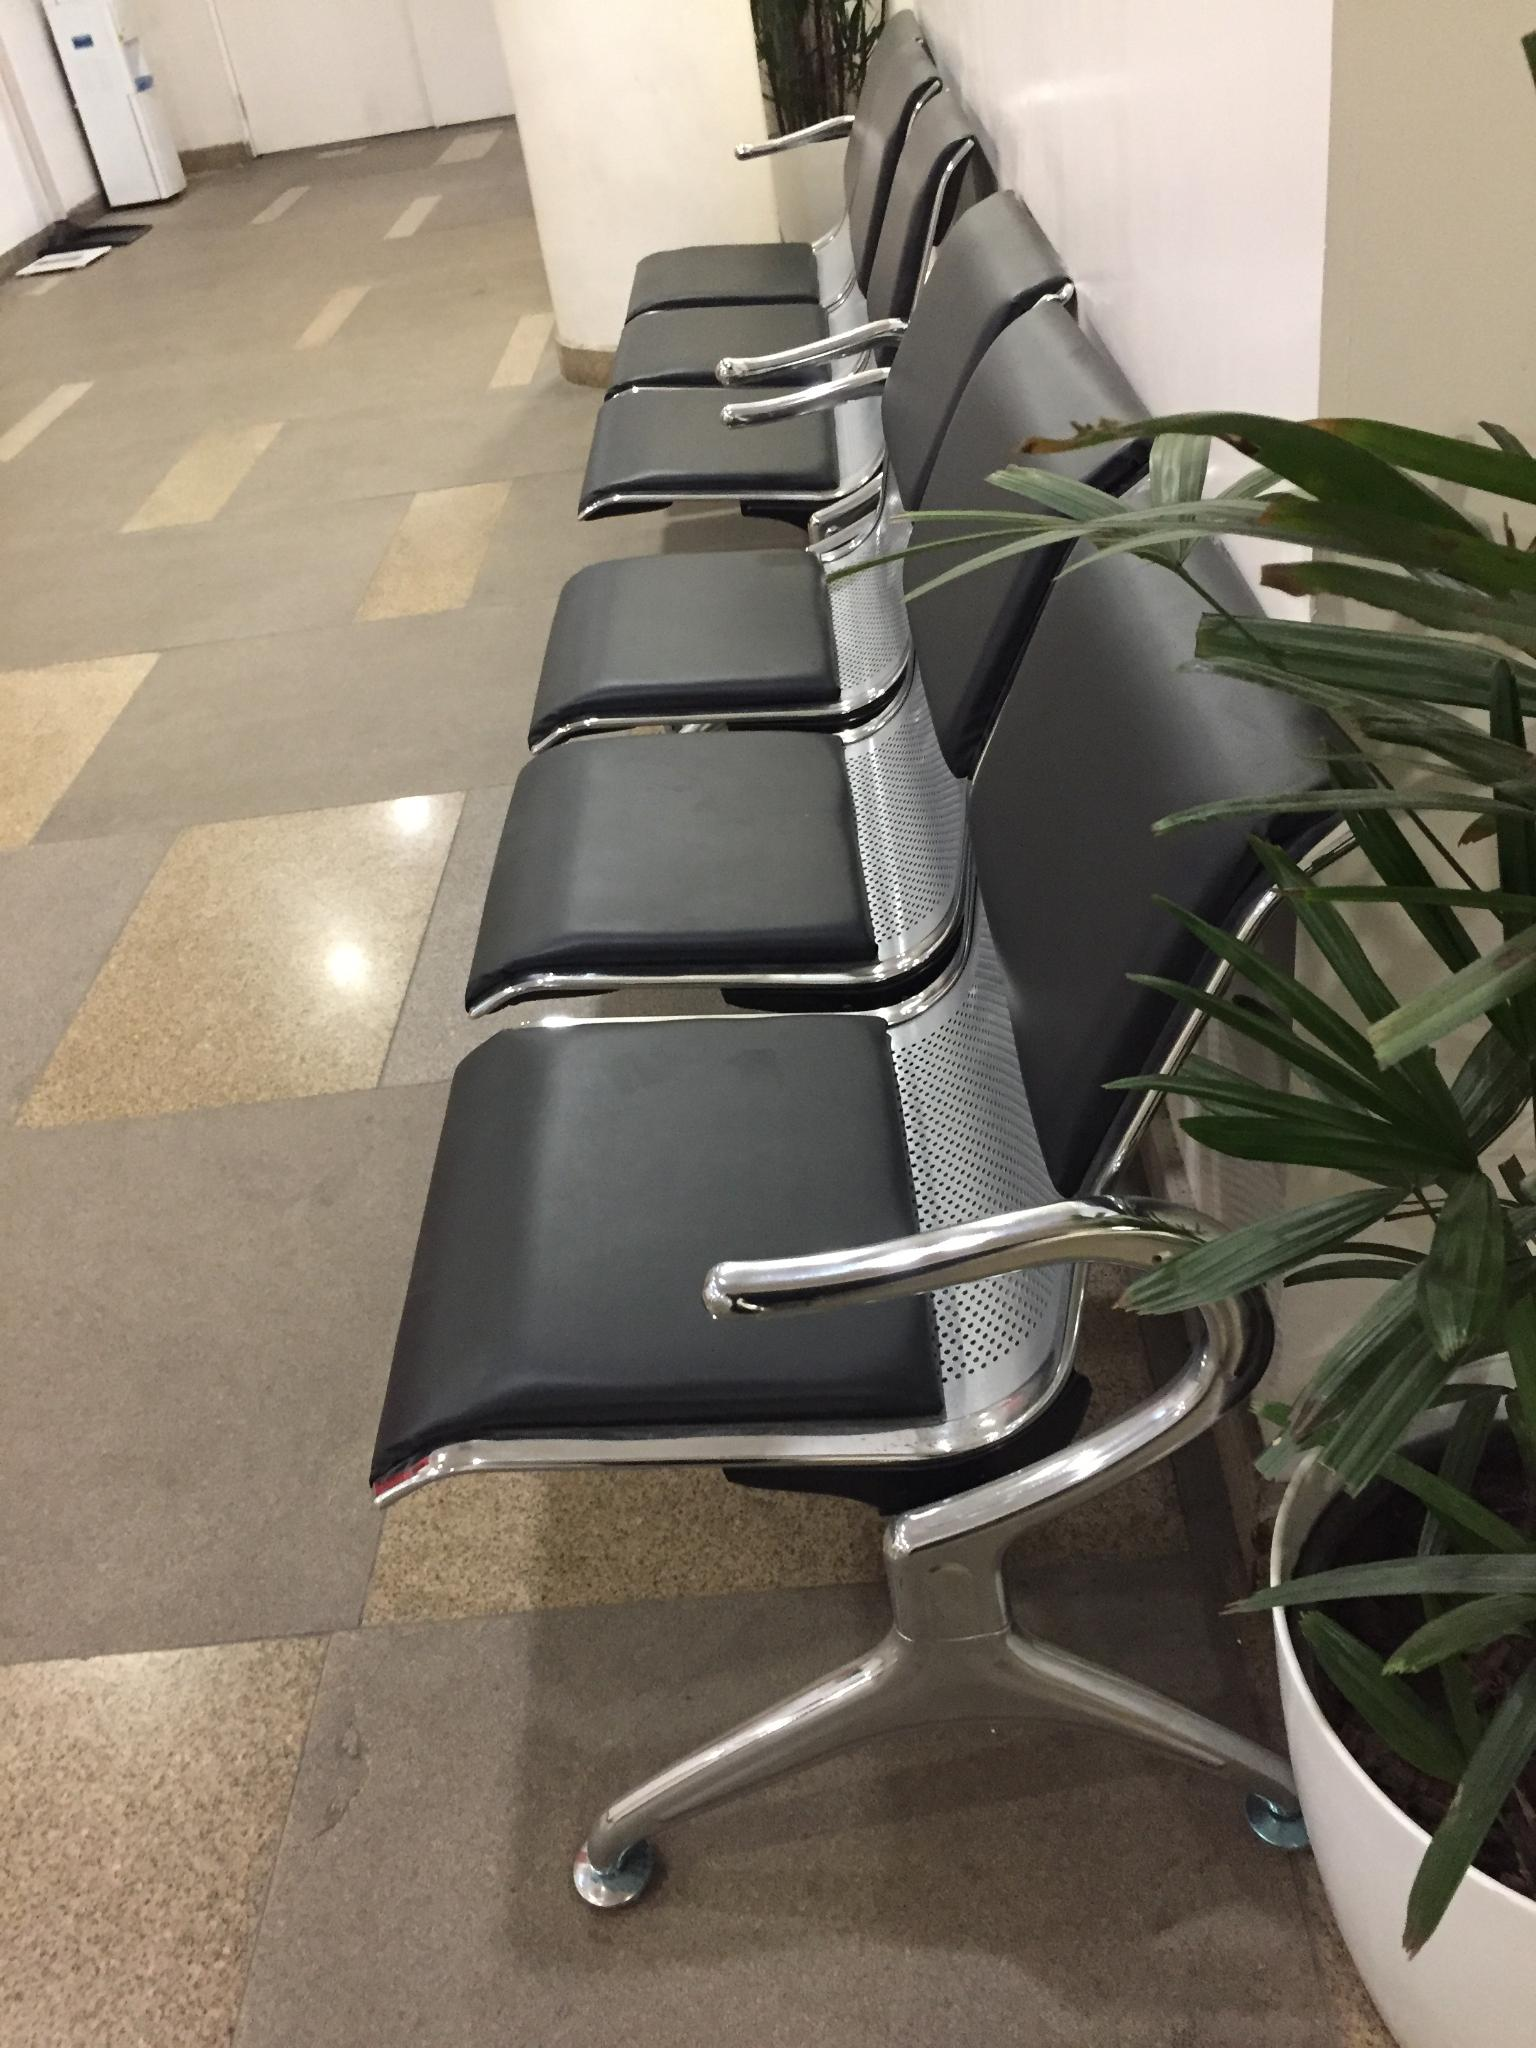chair: (368, 564, 1420, 1909), (408, 303, 1205, 992), (474, 164, 1055, 692), (610, 52, 1086, 490)
